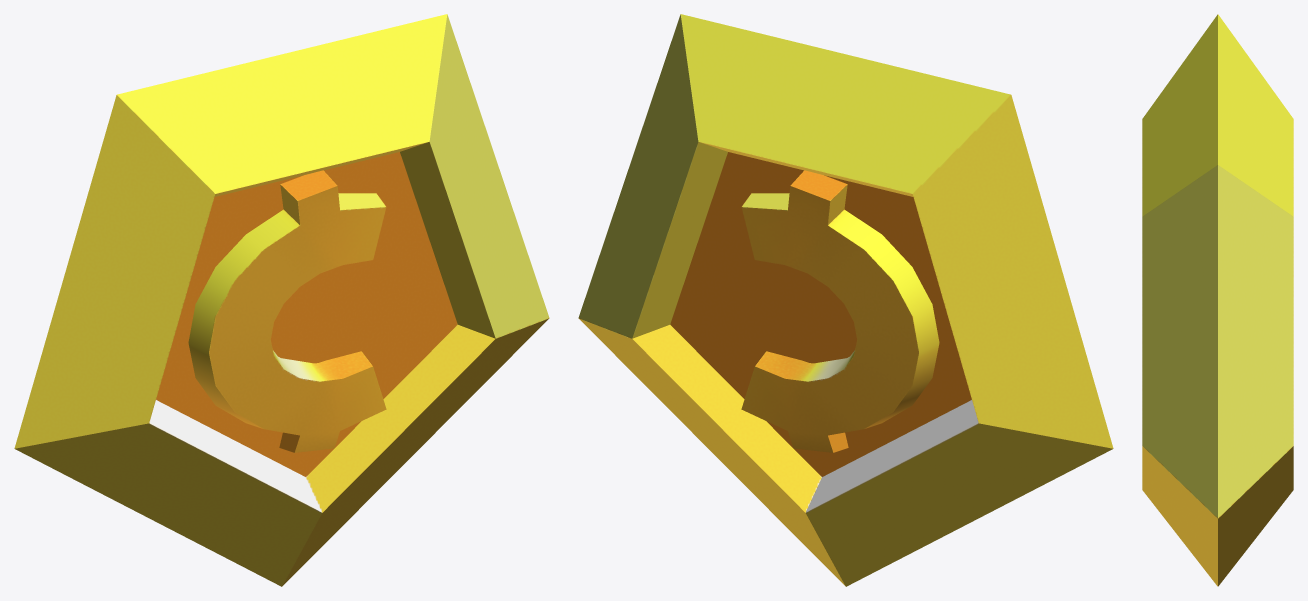
The model's file is coin_versss2.fbx.
3 views of the same model, side by side, from view 1: azimuth 30°, elevation 25°; view 2: azimuth 150°, elevation 25°; view 3: azimuth 270°, elevation 25° (orthographic). The views are drawn at different scales.
Visible parts, largest first — view 1: money_v2; view 2: money_v2; view 3: money_v2.
Boxes of the visible parts, bbox=[...] form: money_v2: bbox=[14, 14, 549, 586]; money_v2: bbox=[578, 14, 1113, 586]; money_v2: bbox=[1142, 14, 1293, 586].
Bounding box in the file's own units: 643 × 612 × 169.
Materials: 1 (1 with a texture image).
